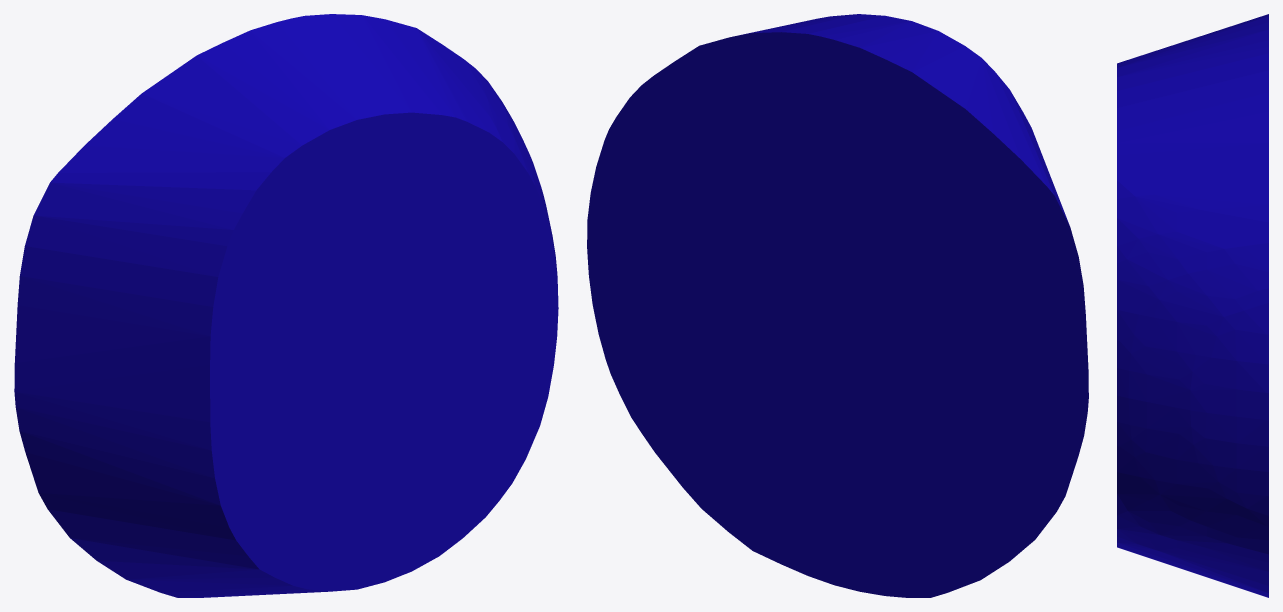
The picture shows the model from 3 angles, left to right: view 1: azimuth 30°, elevation 25°; view 2: azimuth 150°, elevation 25°; view 3: azimuth 270°, elevation 25°; orthographic projection. The views are drawn at different scales.
Bounding box in the file's own units: 0.032 × 0.0333 × 0.00858.
